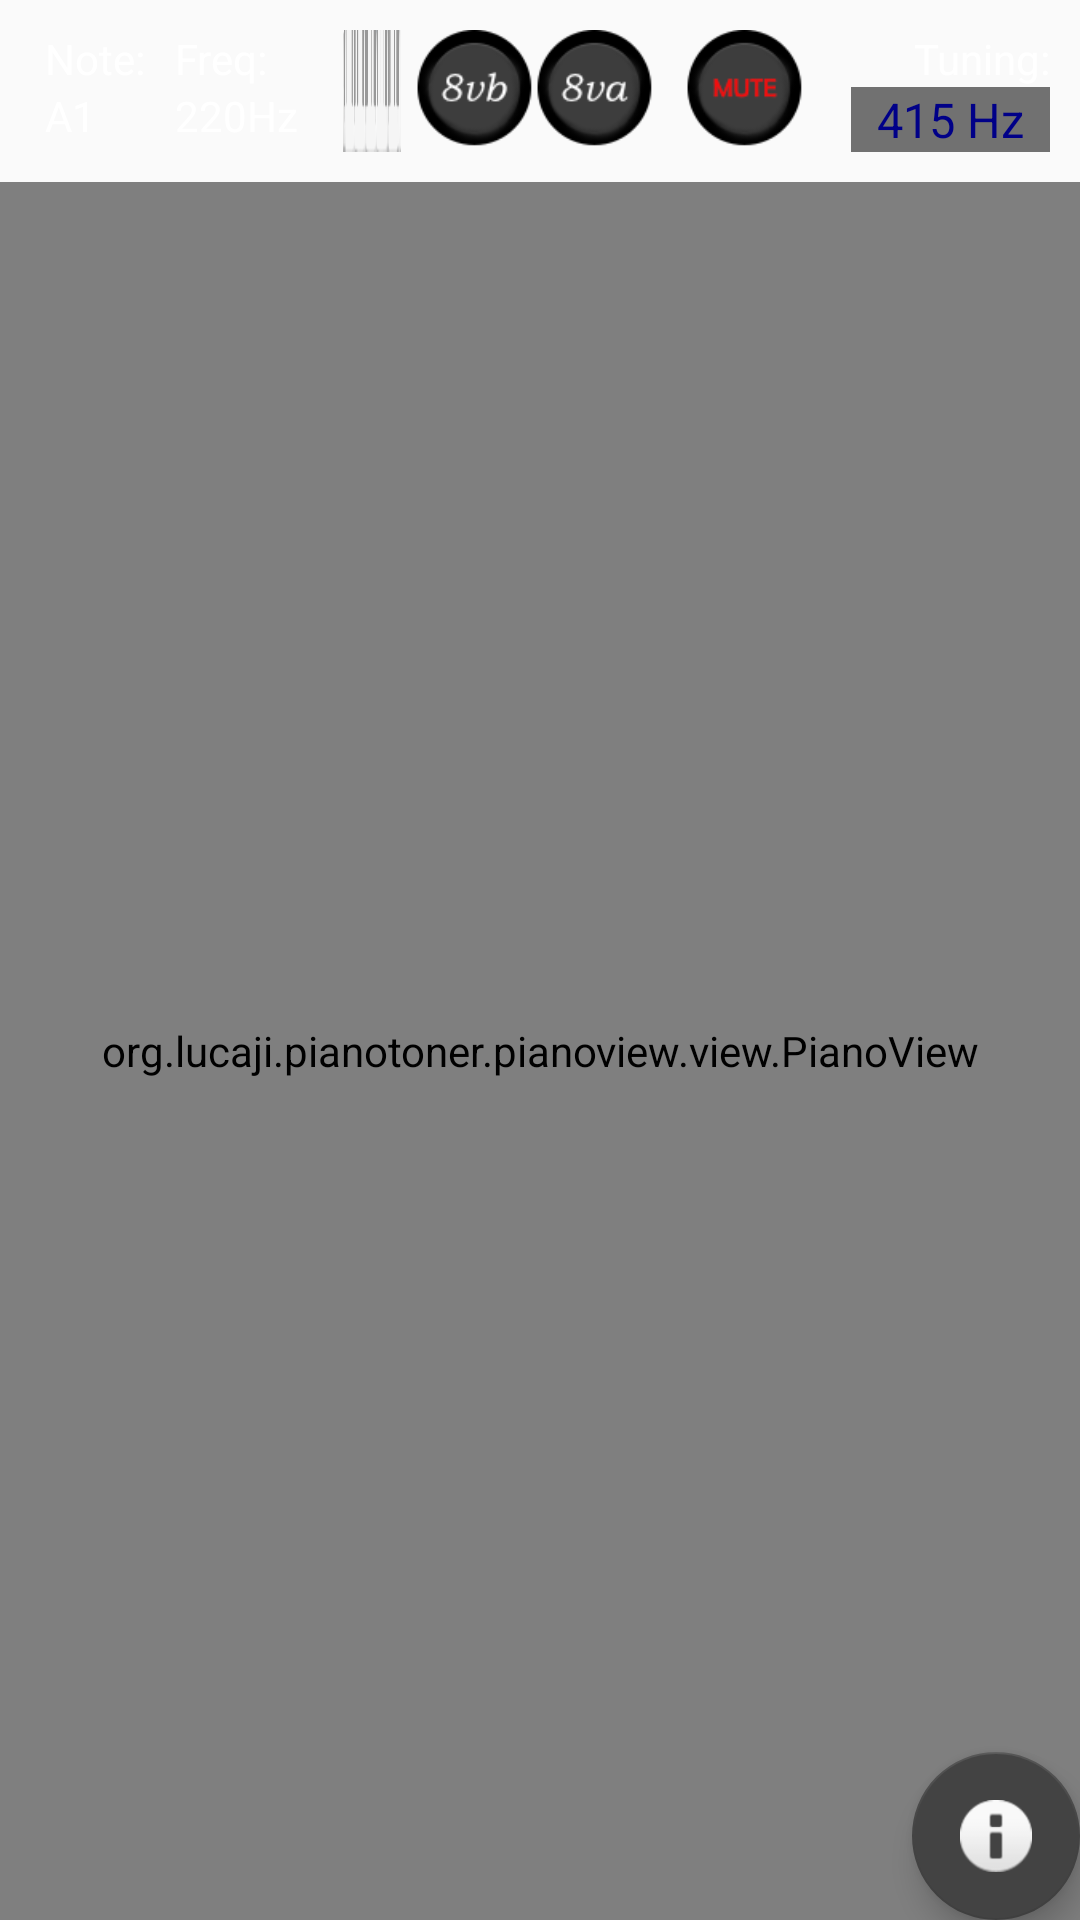

Where icons sit on this 1080×1920 app screen, as (x1,y1,x2,y2):
info: (912,1752,1080,1920)
